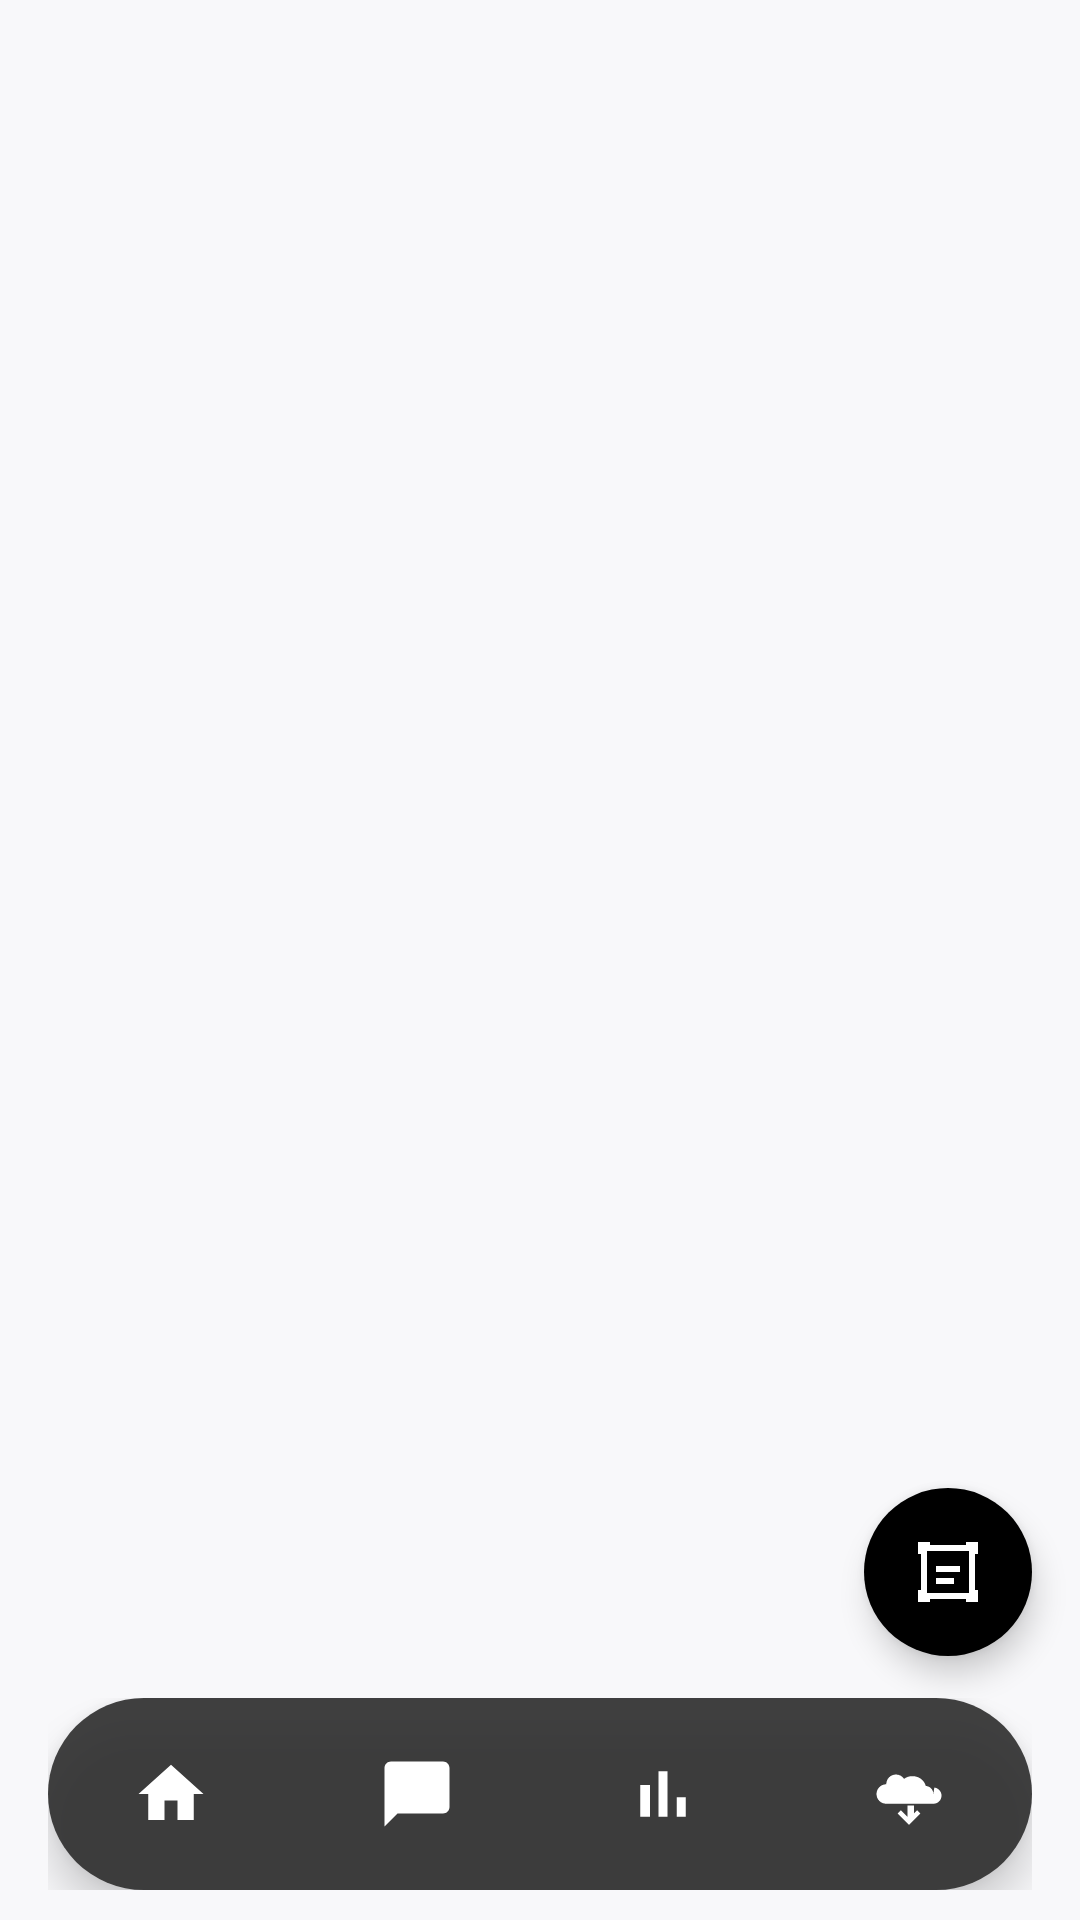

Icon click points for this 1080px×1920px phone screenshot, format [x,y]:
scan fab: [948,1572]
